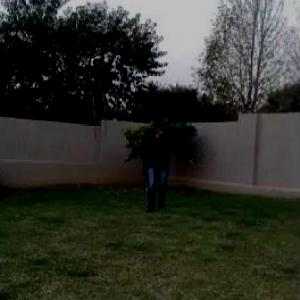land: (120, 93, 206, 230)
